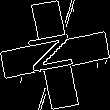N_E: (26, 30, 84, 80)
